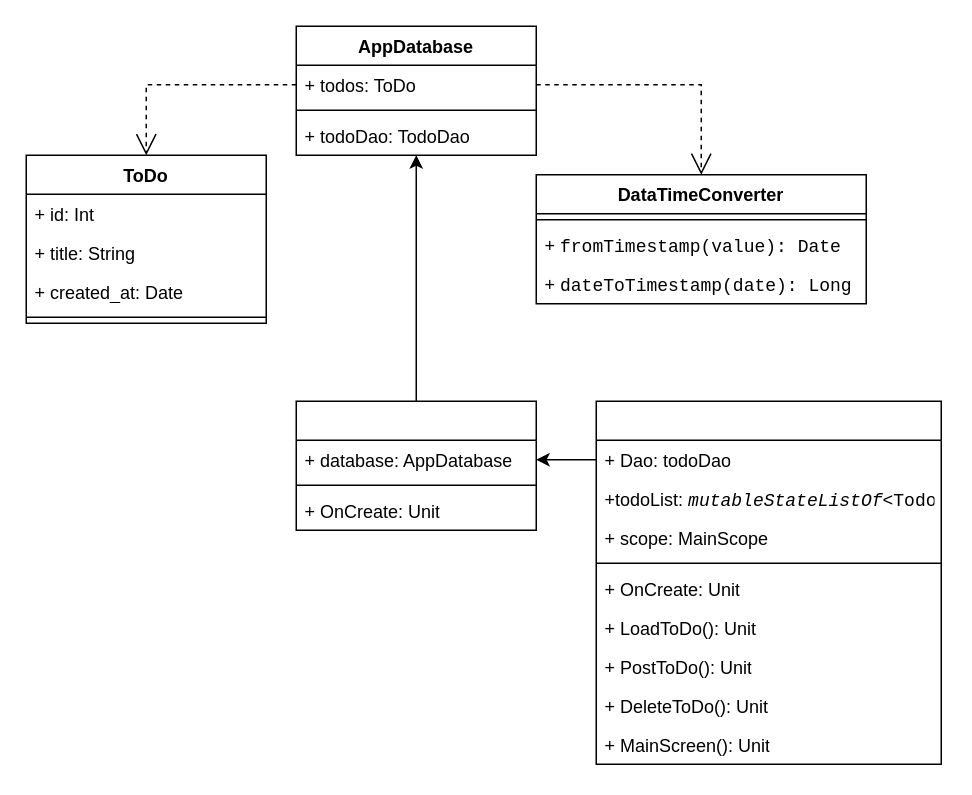
Image size: 972x795. Some labels were removed from this diagram. Each missing label, with the box of its shape:
MainActivity: (595, 400, 941, 764)
MainApplication: (295, 400, 536, 530)
